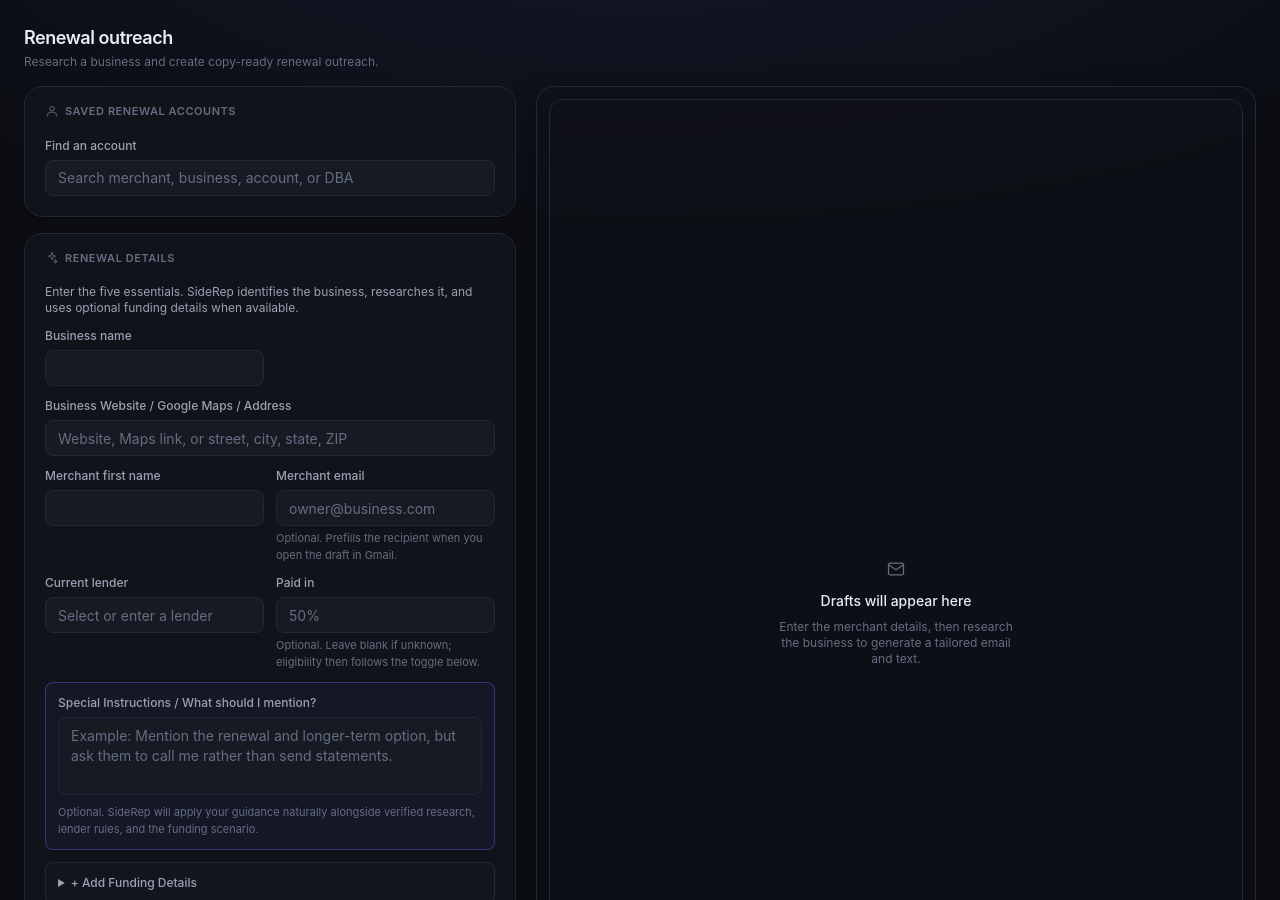
RenewalPage › closes the account list when focus leaves the search box
Focus the dropdown labelled "Find an account" at (270, 178), box [45, 160, 495, 196]
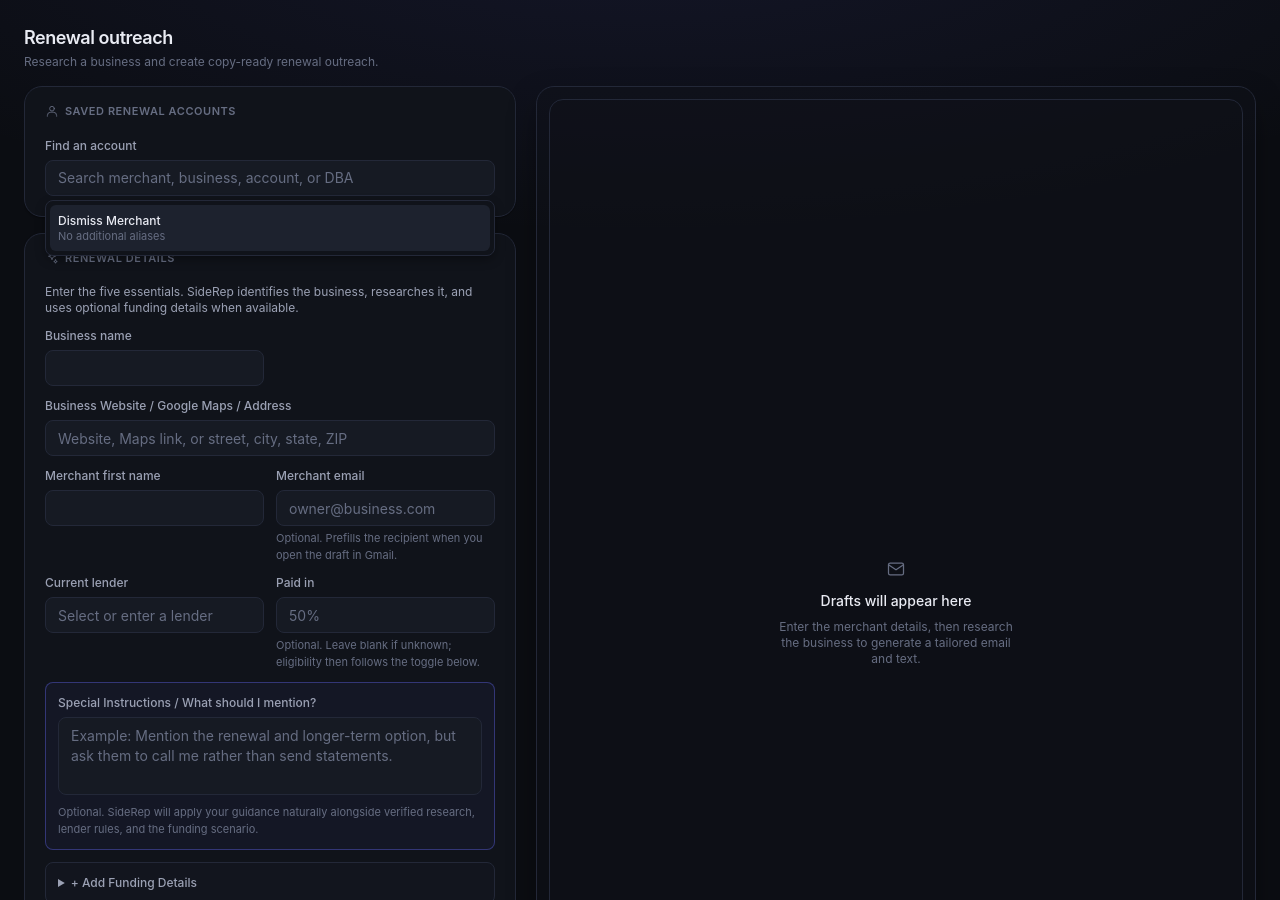
Now the option "Dismiss Merchant No additional aliases" is shown, box [50, 204, 490, 251]
Leave the dropdown labelled "Find an account", box [45, 160, 495, 196]
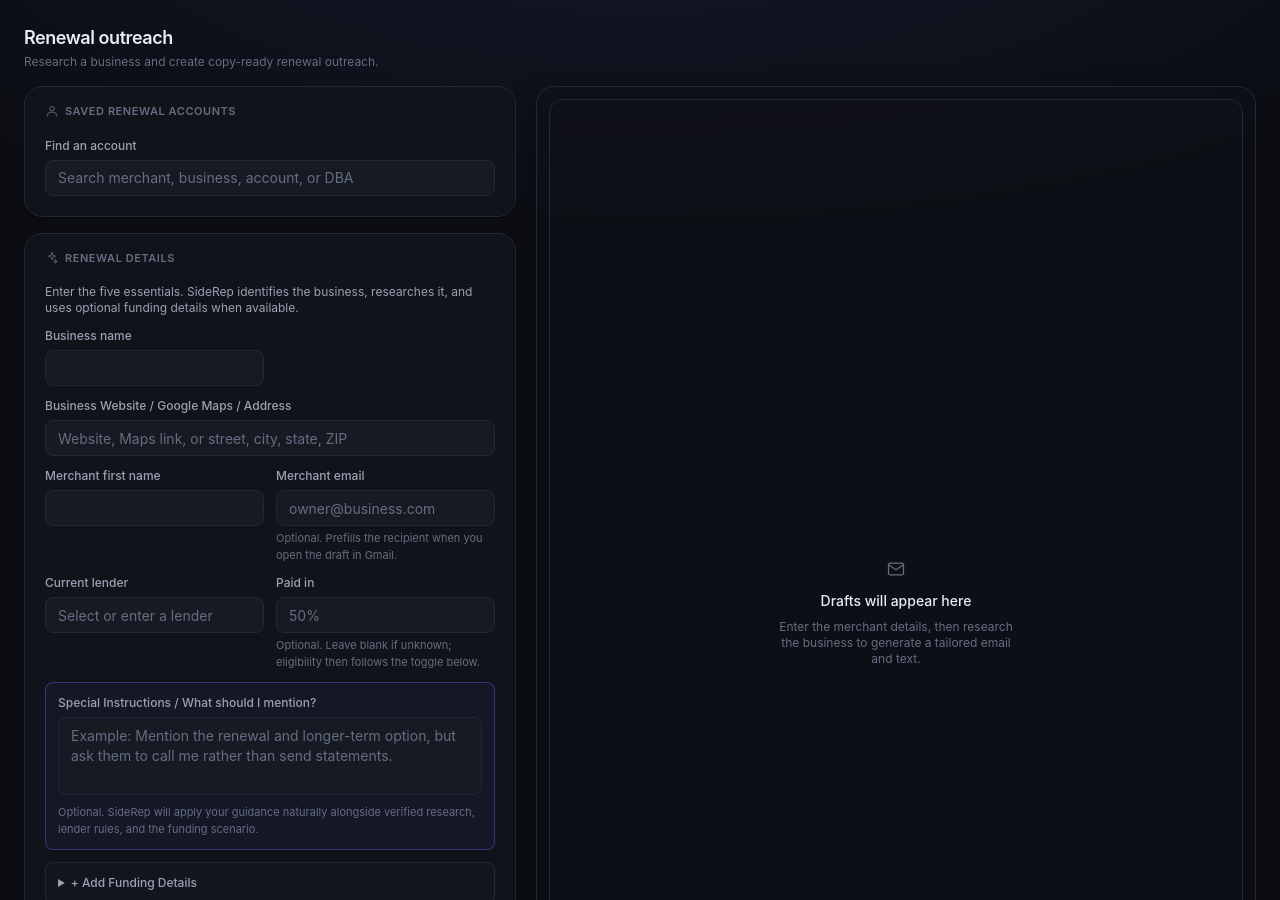
Now the list is gone
